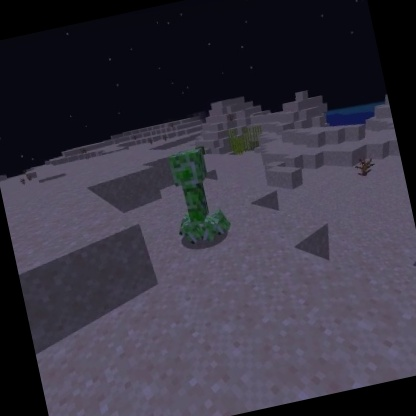creeper: (158, 140, 237, 254)
